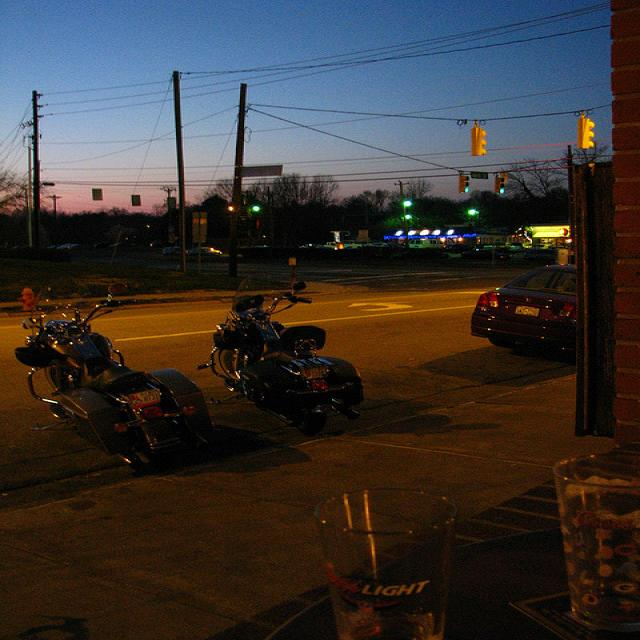motor: (7, 286, 217, 470), (199, 279, 368, 439)
